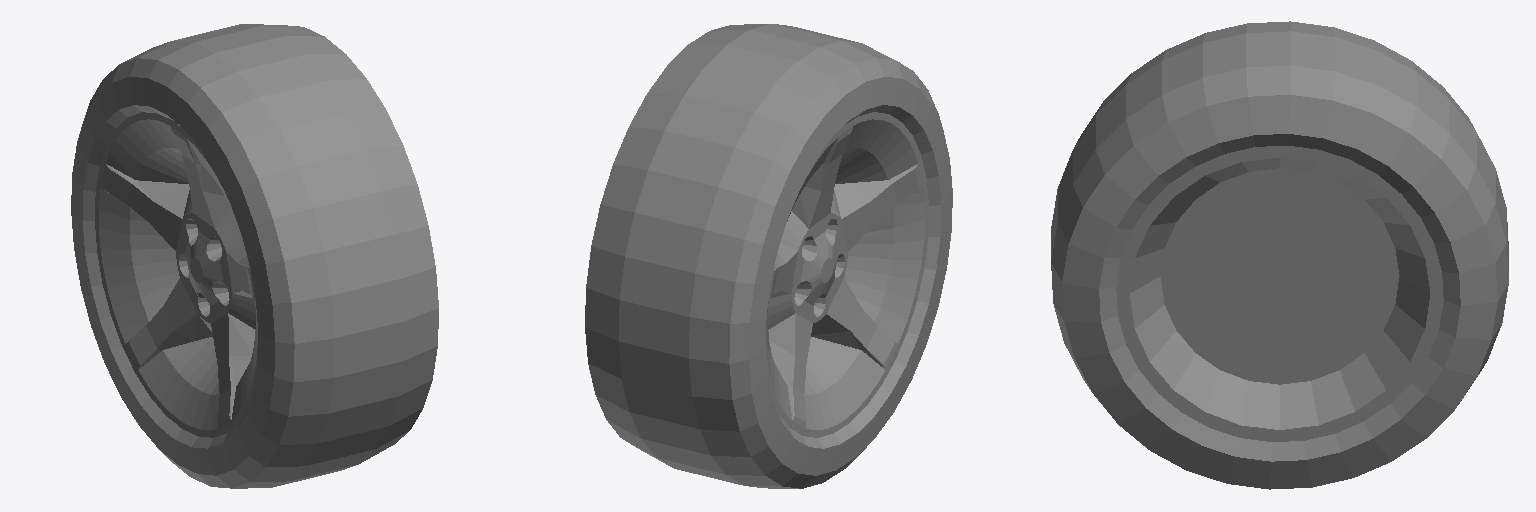
Rendered from Wheel3.obj.
The picture shows the model from 3 angles: view 1: azimuth 30°, elevation 25°; view 2: azimuth 150°, elevation 25°; view 3: azimuth 270°, elevation 25°; orthographic projection.
Parts seen in each view (by area): view 1: BTechFix; view 2: BTechFix; view 3: BTechFix.
Part boxes in pixels (bbox=[...]): BTechFix: bbox=[71, 24, 438, 488]; BTechFix: bbox=[585, 24, 952, 488]; BTechFix: bbox=[1051, 21, 1508, 489].
Size of the model in its own units: 35.25 by 81.69 by 81.69.